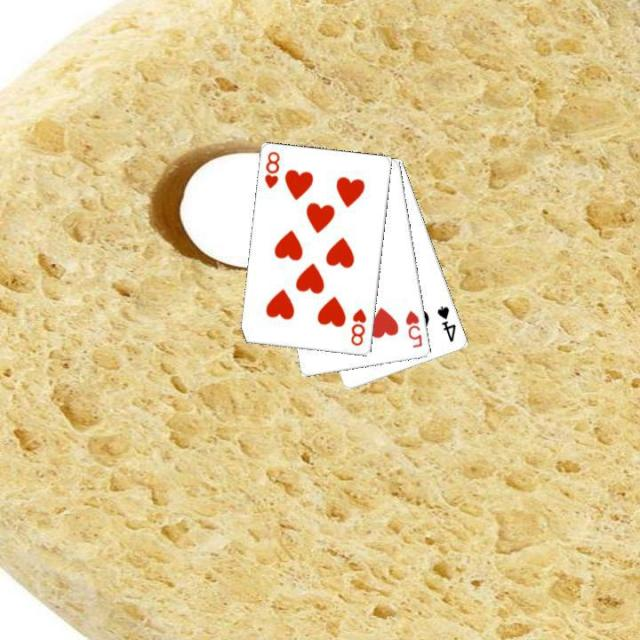4S: (434, 302, 458, 344)
5H: (402, 307, 424, 350)
8H: (260, 148, 282, 190), (347, 305, 368, 347)
